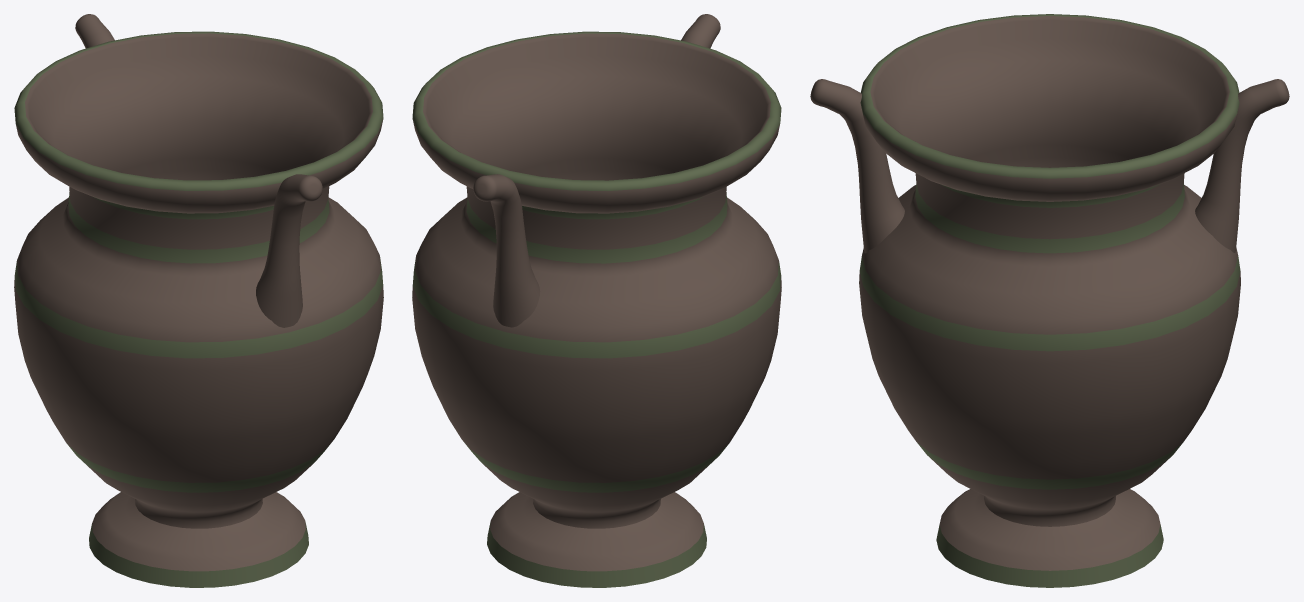
File: pot04.fbx
The picture shows the model from 3 angles, left to right: view 1: azimuth 30°, elevation 25°; view 2: azimuth 150°, elevation 25°; view 3: azimuth 270°, elevation 25°; orthographic projection. The views are drawn at different scales.
Parts seen in each view (by area): view 1: pot04; view 2: pot04; view 3: pot04.
Part boxes in pixels (left/top/right/bottom): pot04: left=14, top=14, right=383, bottom=587; pot04: left=412, top=14, right=781, bottom=587; pot04: left=810, top=14, right=1289, bottom=587.
Size of the model in its own units: 0.5257 by 0.698 by 0.6593.
